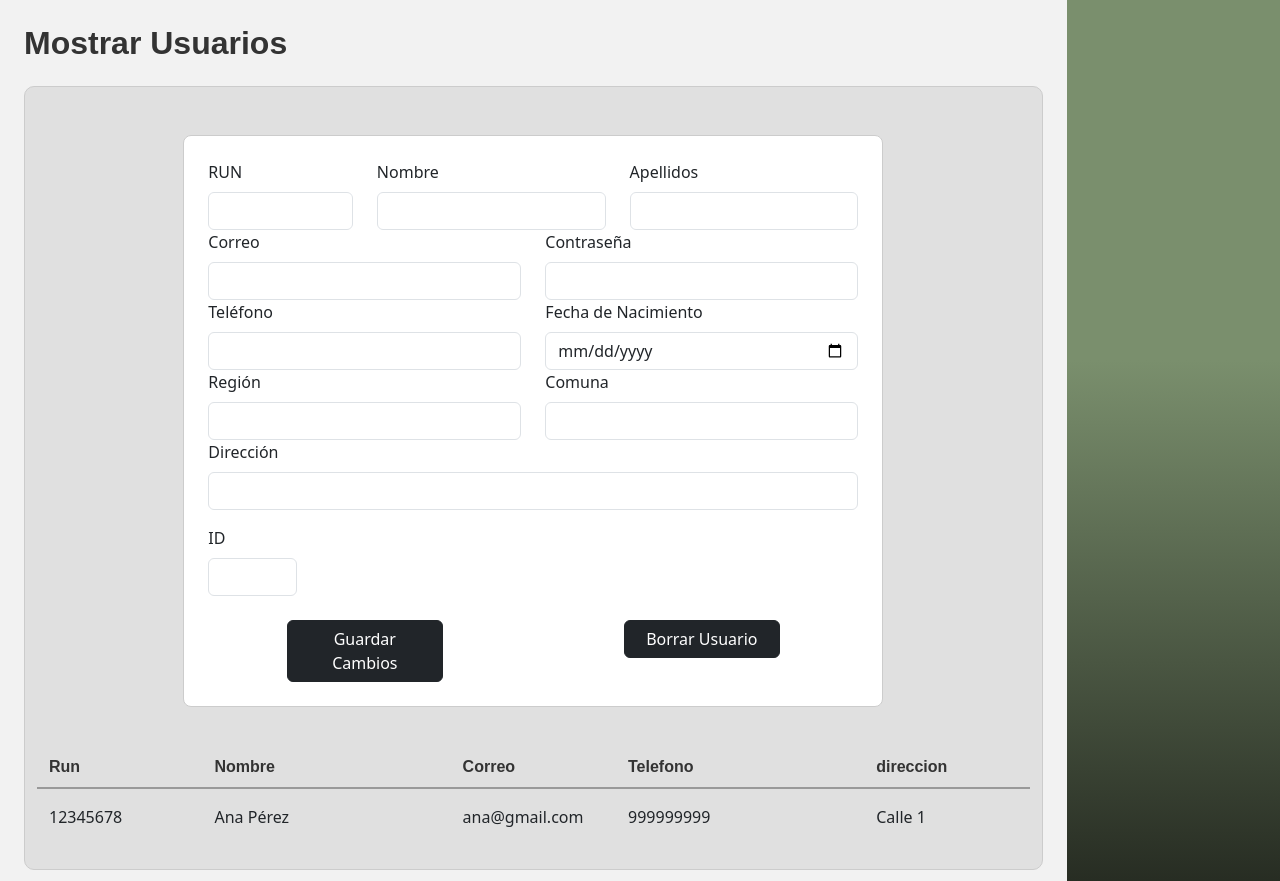
Test: vista admin de mostrar usuarios › guarda los cambios y muestra el aviso en la página
The width and height of the screenshot is (1280, 881).
Click the text "12345678" at (86, 817), box [49, 806, 122, 828]
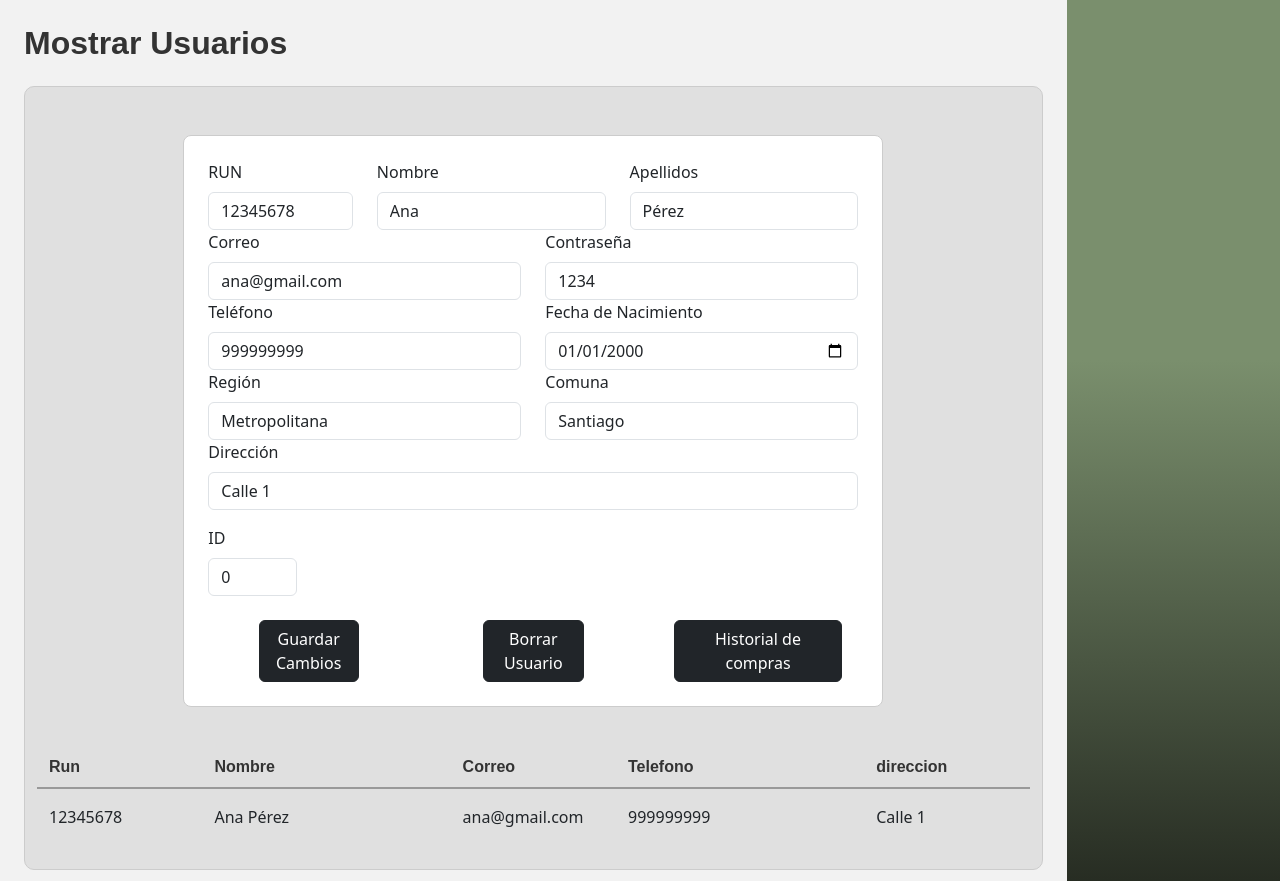
Replace the text in the field showing "Ana" with "Carla" at (491, 211), box [377, 192, 606, 230]
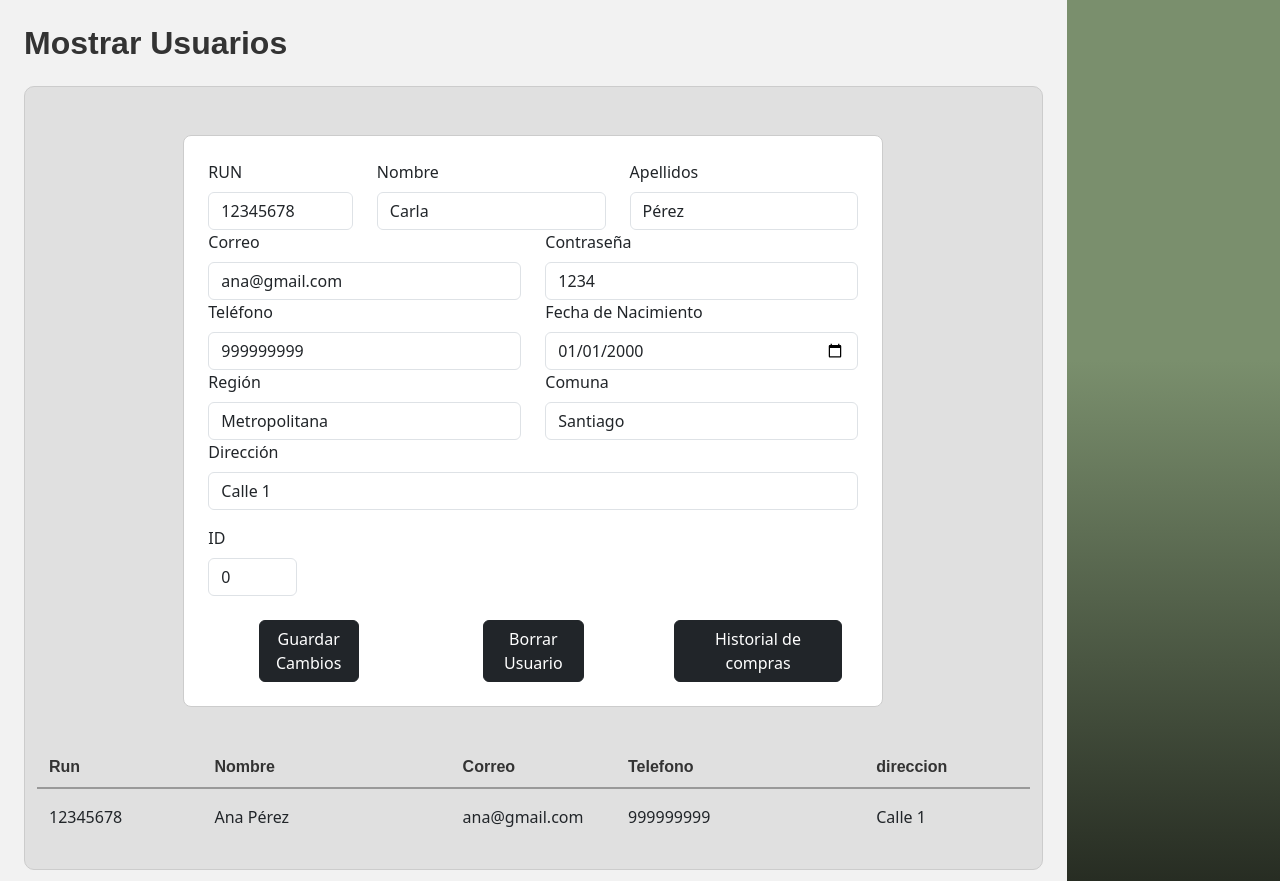
Click the button "Guardar Cambios" at (309, 651), box [258, 620, 359, 682]
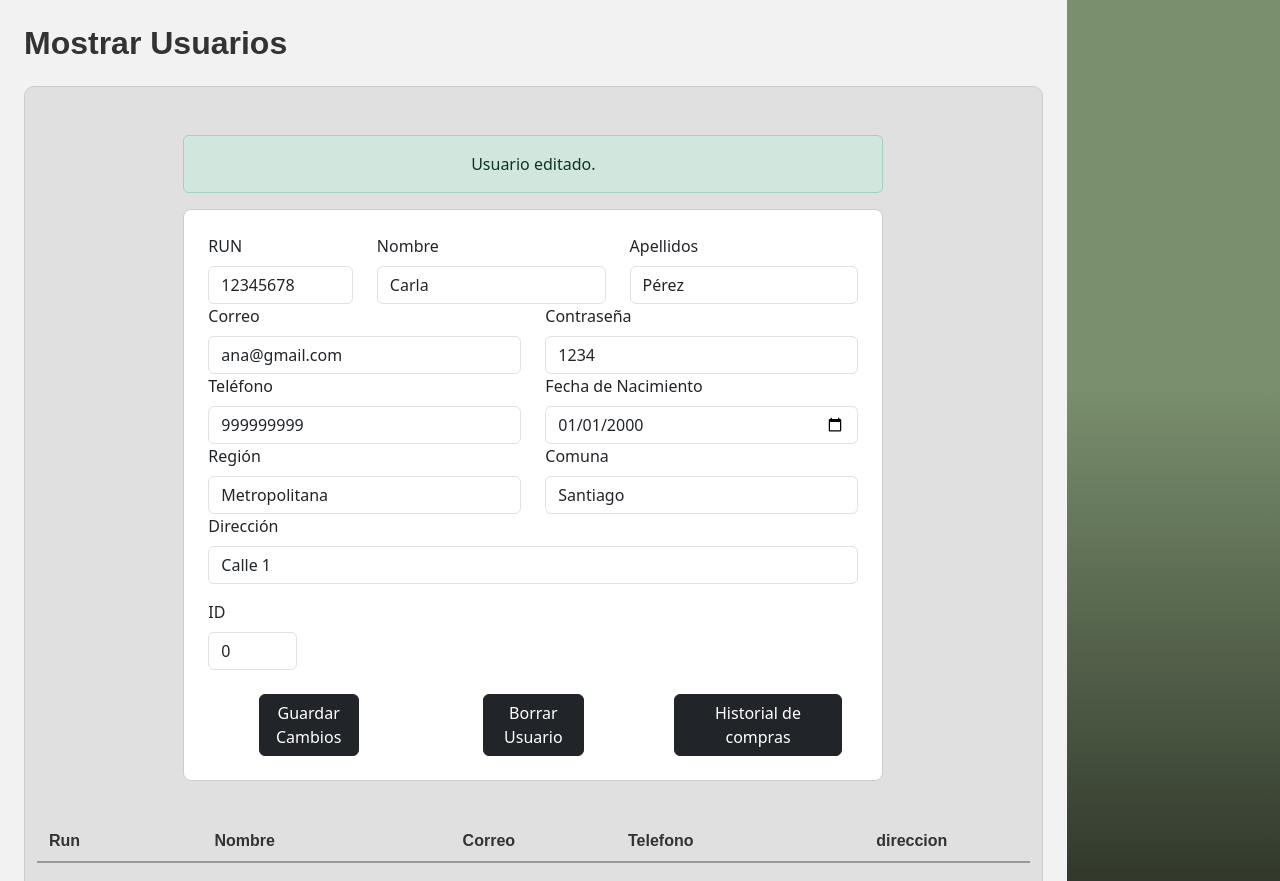
Now the text "Usuario editado." is shown, box [183, 135, 883, 193]
